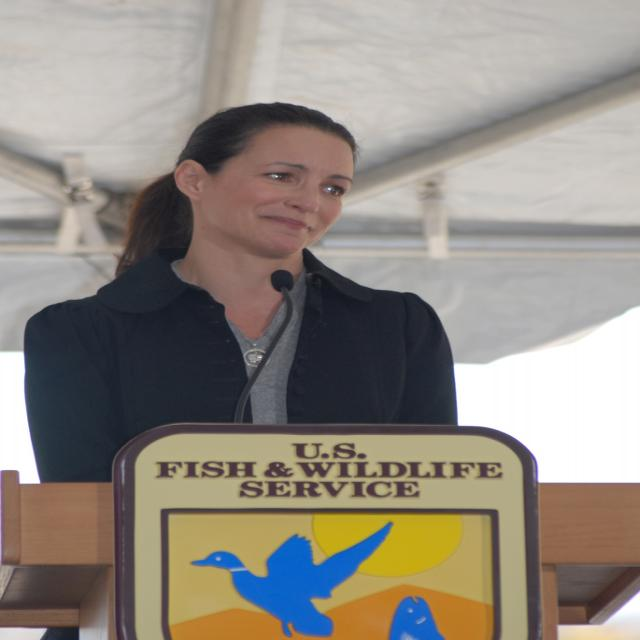chair: (2, 472, 111, 638)
desk: (0, 470, 639, 640)
person: (18, 102, 460, 490)
